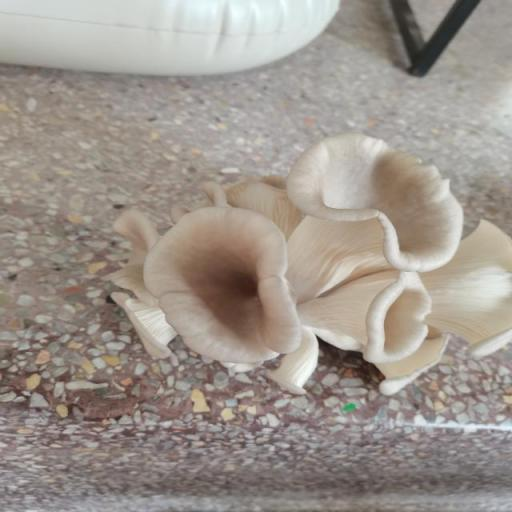White Oyster Mushroom: (105, 130, 512, 402)
